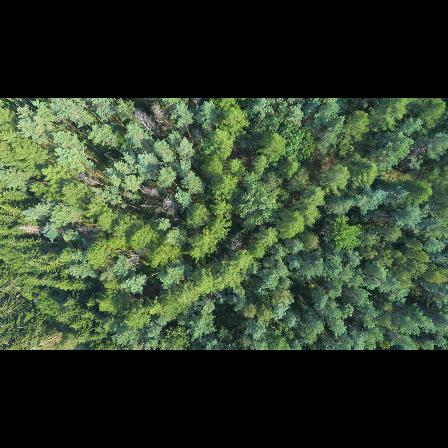Dead: (149, 101, 172, 126), (132, 108, 154, 134), (72, 171, 103, 189), (160, 195, 178, 216)
